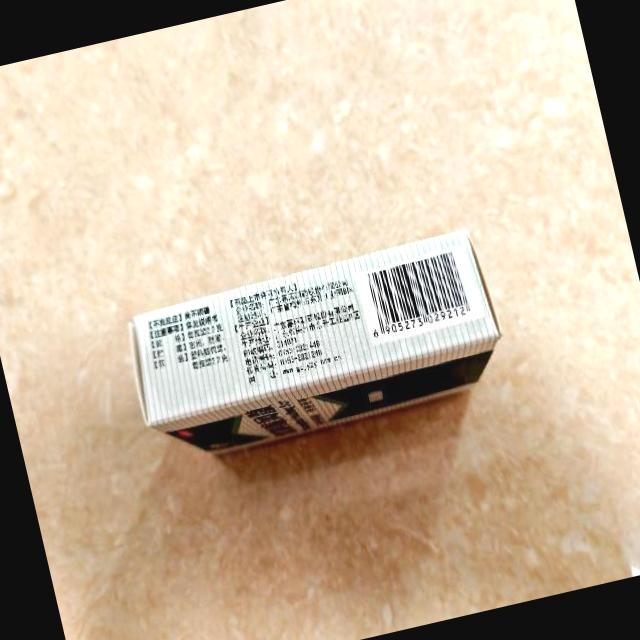box: (118, 225, 514, 471)
